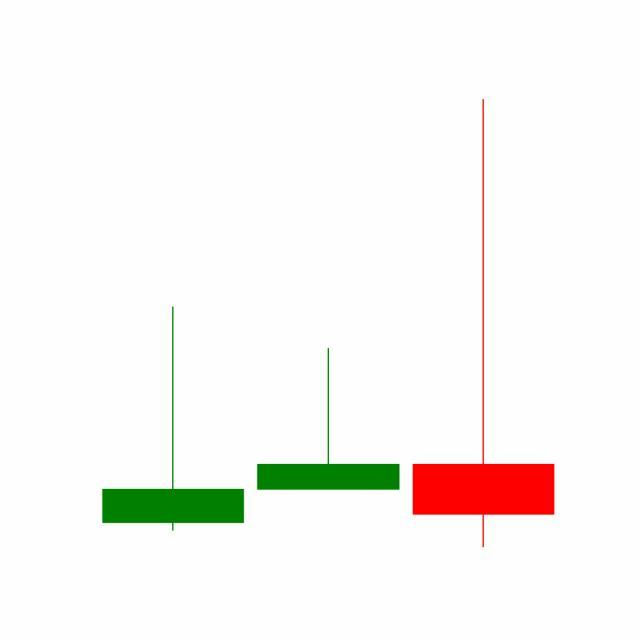Gravestone Doji: (250, 347, 407, 492)
